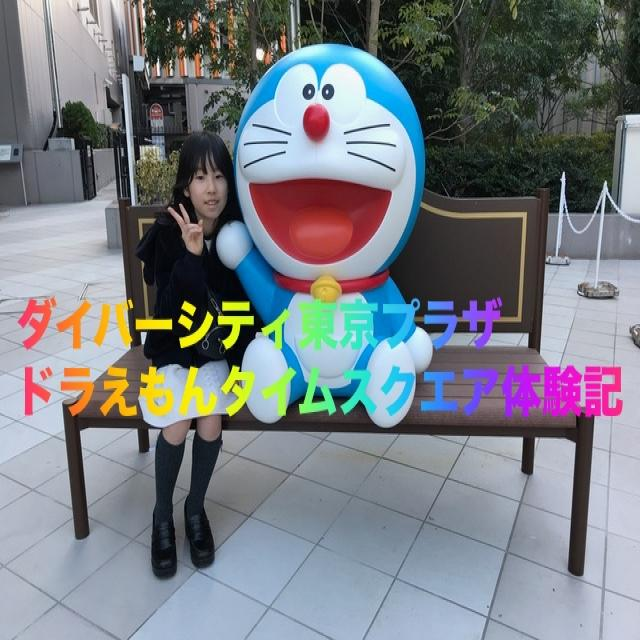doraemon: (231, 37, 442, 355)
